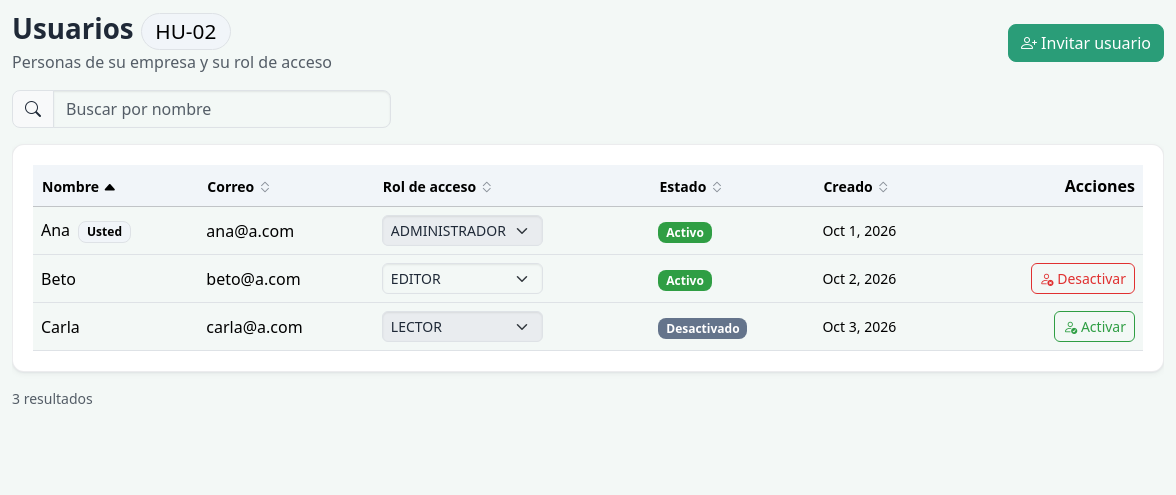
UsuariosComponent (HU-02) › cambia el rol de un usuario y recarga la lista
This screenshot has width=1176, height=495.
Select "LECTOR" in the dropdown named "Rol de Beto": coordinates (462, 279) left=382, top=263, right=543, bottom=294
Wait 300 ms
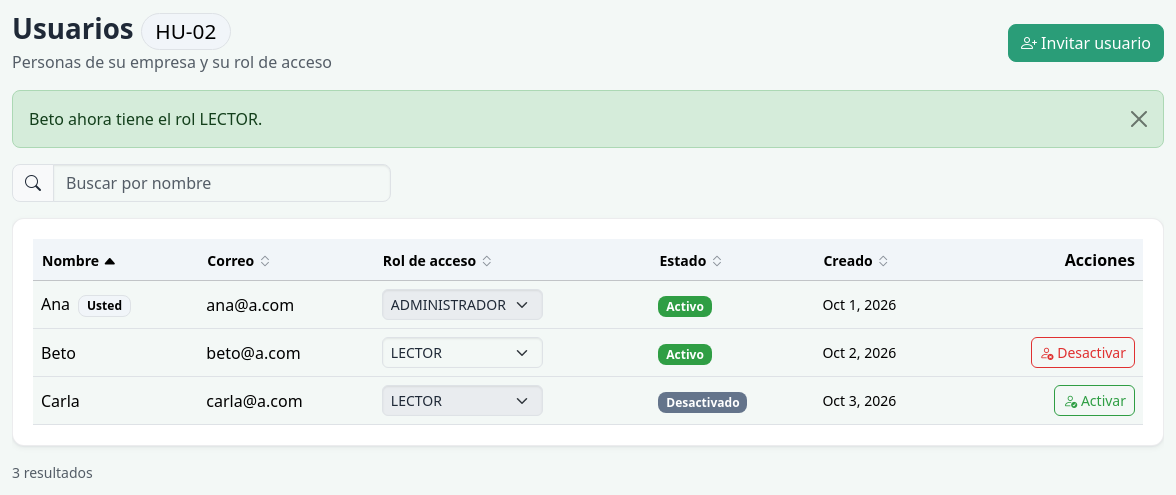
Now the element with id "avisoUsuarios" shows "Beto ahora tiene el rol LECTOR", box left=29, top=108, right=262, bottom=130
